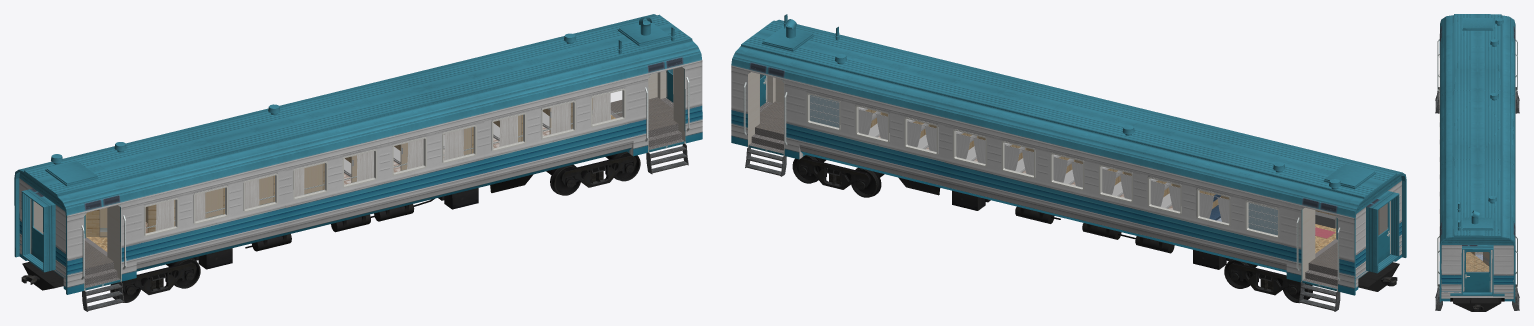
Rendered from Train02aCupe_1Interior.FBX.
3 renders of one model, left to right at view 1: azimuth 30°, elevation 25°; view 2: azimuth 150°, elevation 25°; view 3: azimuth 270°, elevation 25°, orthographic. The views are drawn at different scales.
Parts seen in each view (by area): view 1: Train02aCupe_1Interior, Train02aCupe_Window, Train02aCupe_1Wheels, Train02aCupe_Curtain03a, Train02aCupe_Windows, Train02aCupe_Stairs, Train02aCupe_Wood01a1, Train02aCupe_1Interiordetail, Train02aCupe_1Wheel03, Train02aCupe_Doorcupe6, Train02aCupe_Doorcupe8, Train02aCupe_Bench02; view 2: Train02aCupe_1Interior, Train02aCupe_Window, Train02aCupe_1Wheels, Train02aCupe_Curtain02f, Train02aCupe_Windows, Train02aCupe_Curtain05k, Train02aCupe_Stairs, Train02aCupe_Bench02, Train02aCupe_1Interiordetail, Train02aCupe_Wood01a, Train02aCupe_1Wheel03, Train02aCupe_Chrome; view 3: Train02aCupe_1Interior, Train02aCupe_1Wheels, Train02aCupe_Stairs, Train02aCupe_Doorglass, Train02aCupe_1Interiordetail, Train02aCupe_Windows, Train02aCupe_Doorcupe10.
Boxes of the visible parts, bbox=[...] form: Train02aCupe_1Interior: bbox=[14, 14, 702, 294]; Train02aCupe_Window: bbox=[146, 91, 622, 233]; Train02aCupe_1Wheels: bbox=[21, 154, 636, 294]; Train02aCupe_Curtain03a: bbox=[155, 93, 610, 230]; Train02aCupe_Windows: bbox=[144, 88, 625, 236]; Train02aCupe_Stairs: bbox=[82, 143, 688, 311]; Train02aCupe_Wood01a1: bbox=[86, 102, 572, 236]; Train02aCupe_1Interiordetail: bbox=[51, 17, 675, 164]; Train02aCupe_1Wheel03: bbox=[546, 164, 581, 195]; Train02aCupe_Doorcupe6: bbox=[304, 163, 323, 194]; Train02aCupe_Doorcupe8: bbox=[205, 188, 223, 218]; Train02aCupe_Bench02: bbox=[344, 108, 549, 176]; Train02aCupe_1Interior: bbox=[731, 19, 1406, 295]; Train02aCupe_Window: bbox=[810, 95, 1277, 234]; Train02aCupe_1Wheels: bbox=[796, 157, 1399, 295]; Train02aCupe_Curtain02f: bbox=[858, 110, 1229, 223]; Train02aCupe_Windows: bbox=[806, 93, 1279, 238]; Train02aCupe_Curtain05k: bbox=[810, 95, 1277, 235]; Train02aCupe_Stairs: bbox=[745, 147, 1340, 311]; Train02aCupe_Bench02: bbox=[868, 111, 1171, 208]; Train02aCupe_1Interiordetail: bbox=[783, 14, 1340, 189]; Train02aCupe_Wood01a: bbox=[865, 109, 1220, 208]; Train02aCupe_1Wheel03: bbox=[850, 167, 884, 197]; Train02aCupe_Chrome: bbox=[810, 95, 1277, 230]; Train02aCupe_1Interior: bbox=[1437, 14, 1517, 302]; Train02aCupe_1Wheels: bbox=[1453, 298, 1501, 311]; Train02aCupe_Stairs: bbox=[1435, 87, 1519, 310]; Train02aCupe_Doorglass: bbox=[1466, 252, 1488, 271]; Train02aCupe_1Interiordetail: bbox=[1457, 18, 1503, 230]; Train02aCupe_Windows: bbox=[1439, 58, 1439, 233]; Train02aCupe_Doorcupe10: bbox=[1483, 252, 1489, 266].
Bounding box in the file's own units: 1348 × 277 × 206.
